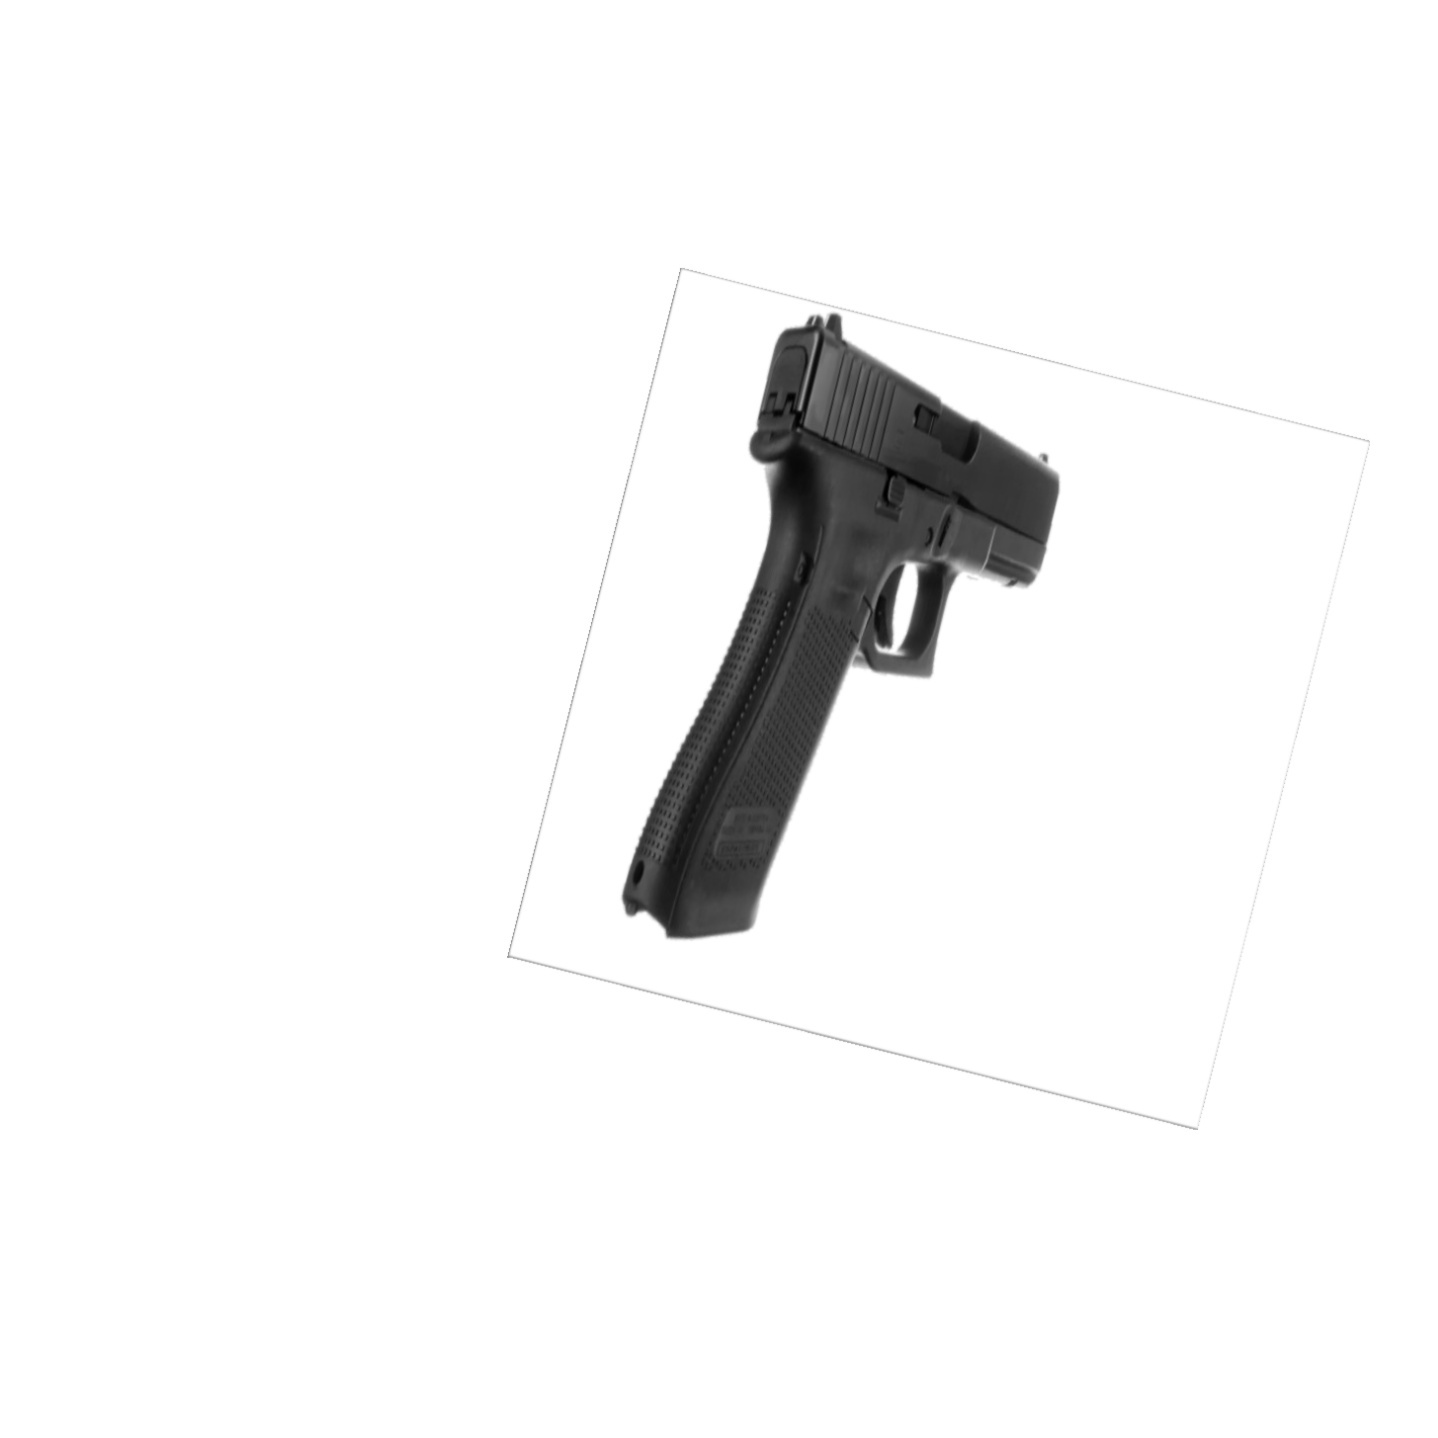gun: (614, 298, 1067, 951)
